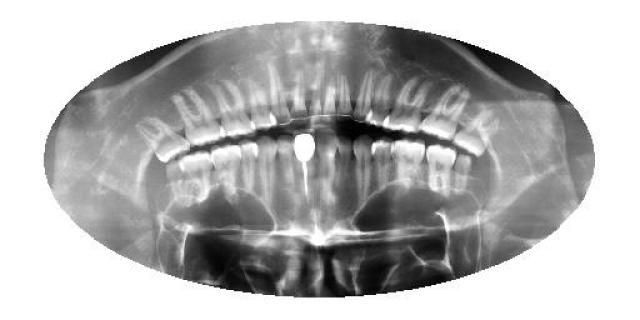Implant: (292, 132, 318, 200)
